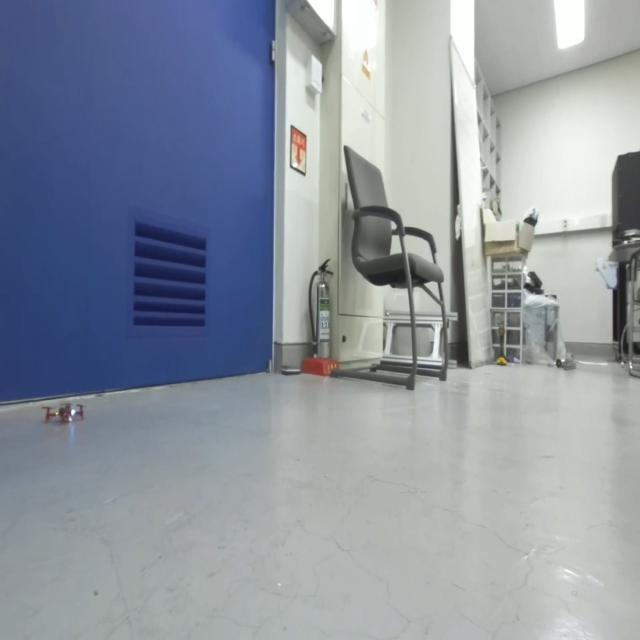crazyflie: (40, 399, 87, 428)
